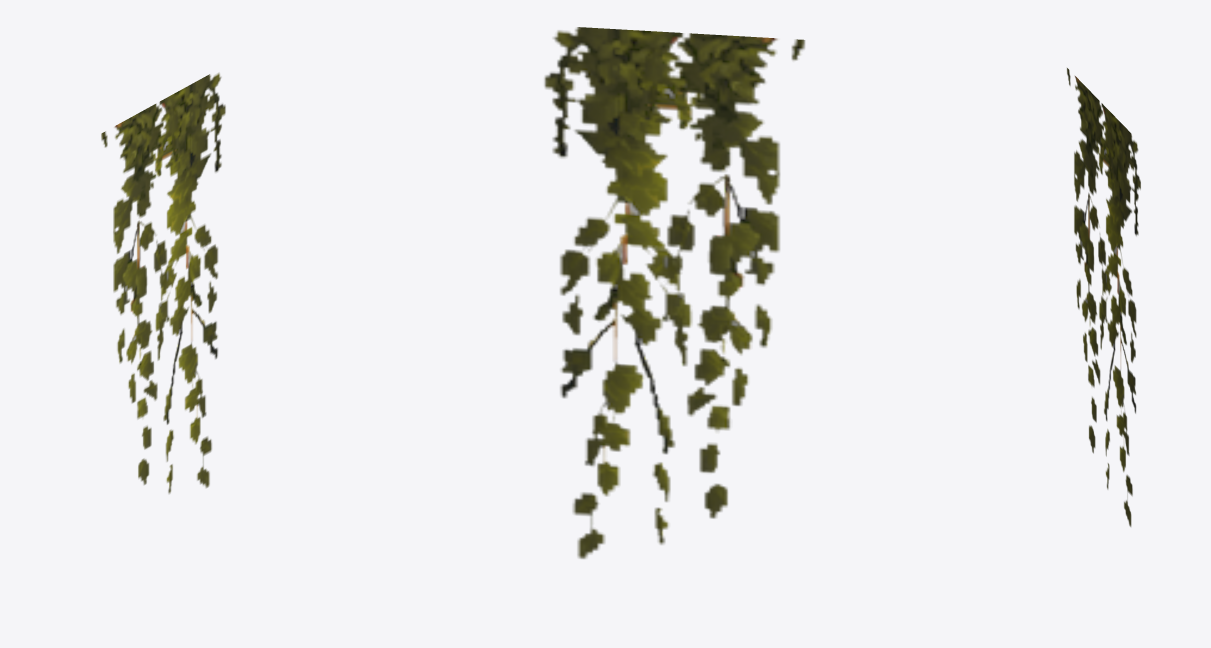
File: GH_1_Ivy_3.gltf
3 renders of one model, left to right at view 1: azimuth 30°, elevation 25°; view 2: azimuth 150°, elevation 25°; view 3: azimuth 270°, elevation 25°, orthographic. The views are drawn at different scales.
Parts seen in each view (by area): view 1: GH_1_Ivy_3; view 2: GH_1_Ivy_3; view 3: GH_1_Ivy_3.
Part boxes in pixels (box(x1,y1,x2,y2)): GH_1_Ivy_3: box(101, 73, 225, 493); GH_1_Ivy_3: box(544, 27, 804, 558); GH_1_Ivy_3: box(1067, 68, 1140, 526).
Bounding box in the file's own units: 1.75 × 1.89 × 0.7183.
Materials: 1 (1 with a texture image).
